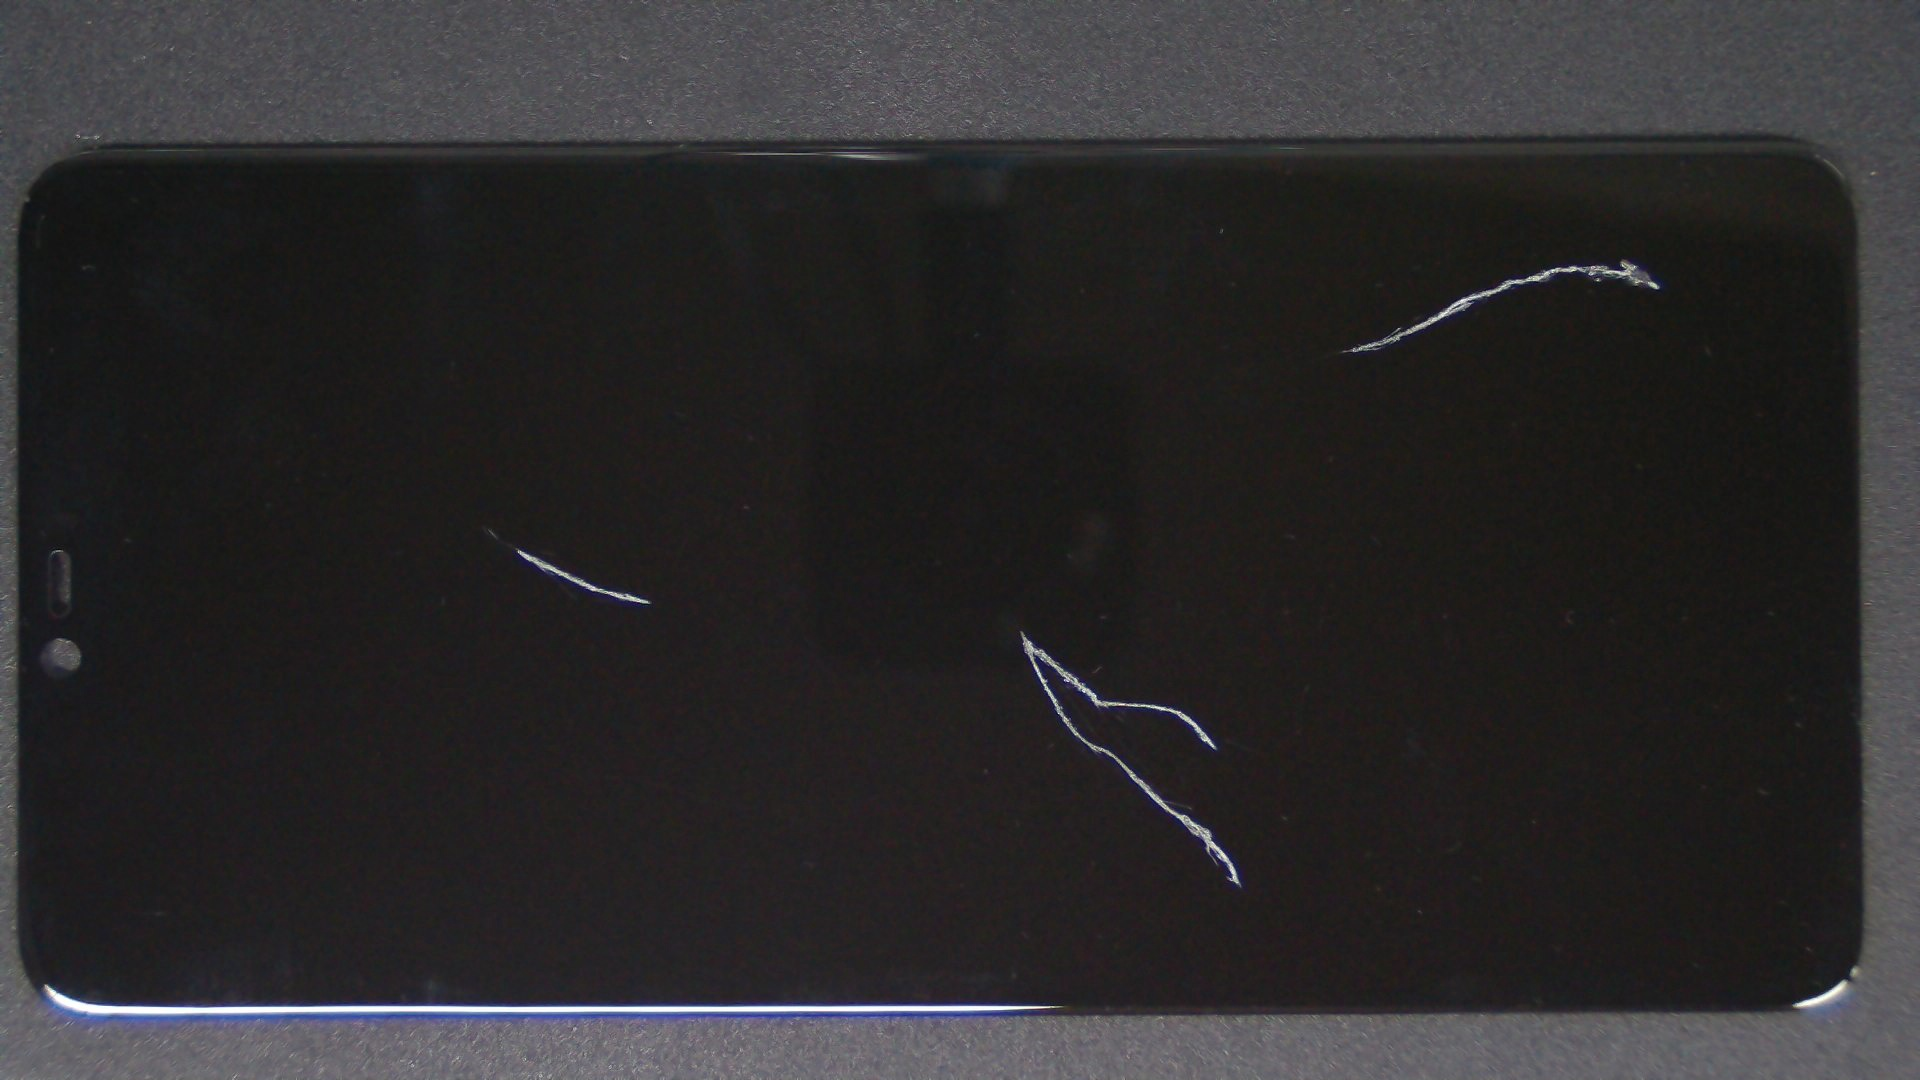oil: (512, 314, 1534, 945), (814, 128, 1920, 386), (244, 262, 732, 791)
